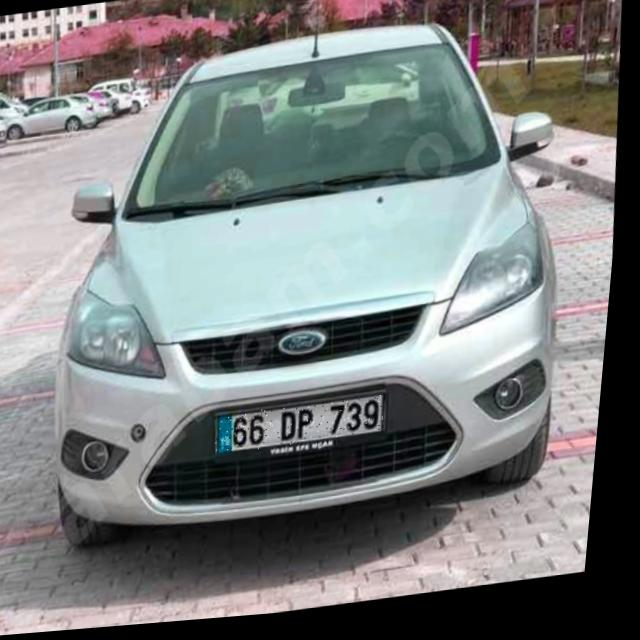license_plate: (221, 400, 396, 459)
